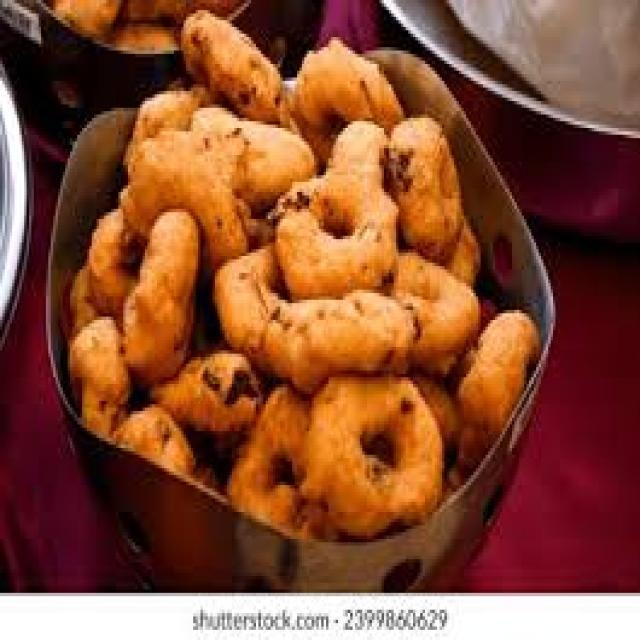MEDU VADA: (310, 374, 442, 537), (266, 288, 421, 399), (225, 389, 327, 548), (120, 136, 243, 265), (280, 169, 396, 288), (290, 42, 404, 162), (126, 203, 195, 371), (182, 5, 280, 119), (386, 113, 460, 259), (393, 246, 480, 364), (200, 117, 307, 197), (67, 309, 133, 435), (464, 315, 540, 424), (214, 251, 290, 349), (164, 354, 255, 435), (88, 211, 133, 337), (111, 398, 185, 472), (127, 87, 206, 145), (335, 115, 386, 188), (445, 226, 479, 287)
